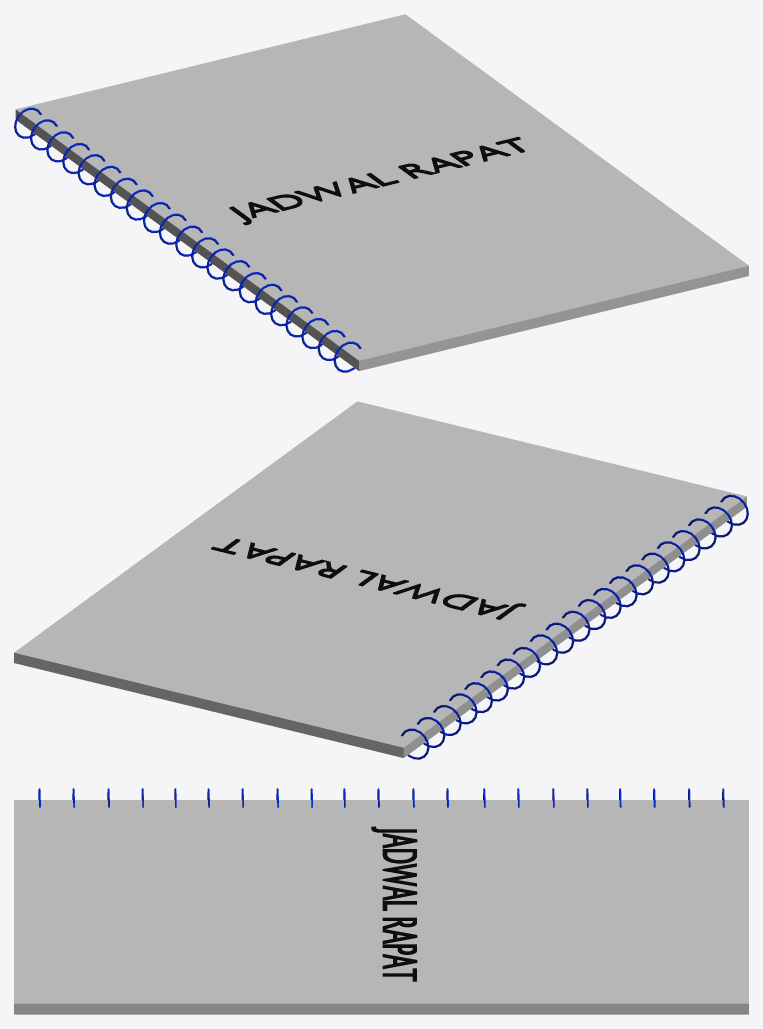
The model's file is JADWAL RAPAT.fbx.
3 renders of one model, top to bottom at view 1: azimuth 30°, elevation 25°; view 2: azimuth 150°, elevation 25°; view 3: azimuth 270°, elevation 25°, orthographic. The views are drawn at different scales.
Parts seen in each view (by area): view 1: Cube.002, PT. ARKANA.001; view 2: Cube.002, PT. ARKANA.001; view 3: Cube.002, PT. ARKANA.001.
Boxes of the visible parts, x1,y1,x2,y2 form: Cube.002: (15,14,748,370); PT. ARKANA.001: (229,136,524,225); Cube.002: (14,401,746,757); PT. ARKANA.001: (211,539,526,619); Cube.002: (14,800,748,1014); PT. ARKANA.001: (371,826,417,981).
Bounding box in the file's own units: 207 × 15.01 × 305.
